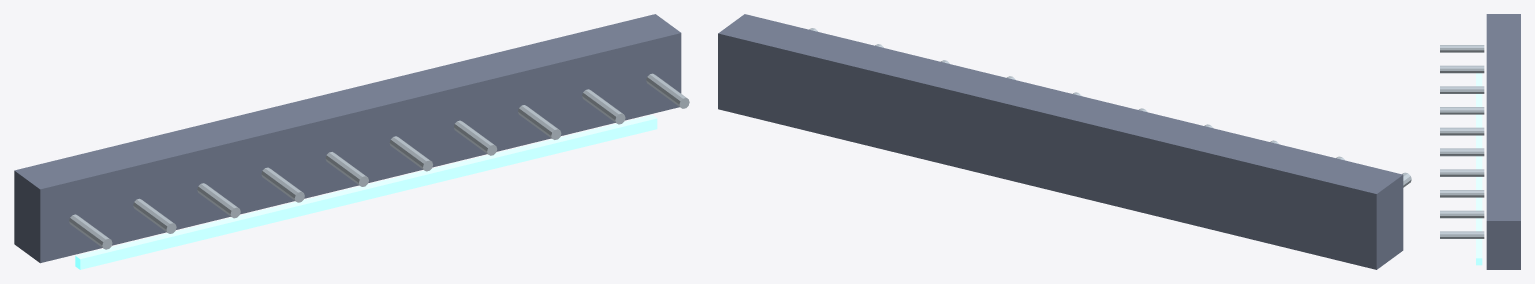
File: 03_Cloudway_Sky_Bridge.glb
3 renders of one model, left to right at view 1: azimuth 30°, elevation 25°; view 2: azimuth 150°, elevation 25°; view 3: azimuth 270°, elevation 25°, orthographic. The views are drawn at different scales.
Parts seen in each view (by area): view 1: 03_Cloudway_Sky_Bridge_00, 03_Cloudway_Sky_Bridge_01, 03_Cloudway_Sky_Bridge_02, 03_Cloudway_Sky_Bridge_05, 03_Cloudway_Sky_Bridge_07, 03_Cloudway_Sky_Bridge_10, 03_Cloudway_Sky_Bridge_03, 03_Cloudway_Sky_Bridge_04, 03_Cloudway_Sky_Bridge_06, 03_Cloudway_Sky_Bridge_08, 03_Cloudway_Sky_Bridge_09, 03_Cloudway_Sky_Bridge_11; view 2: 03_Cloudway_Sky_Bridge_00; view 3: 03_Cloudway_Sky_Bridge_00, 03_Cloudway_Sky_Bridge_01, 03_Cloudway_Sky_Bridge_06, 03_Cloudway_Sky_Bridge_07, 03_Cloudway_Sky_Bridge_03, 03_Cloudway_Sky_Bridge_10, 03_Cloudway_Sky_Bridge_02, 03_Cloudway_Sky_Bridge_04, 03_Cloudway_Sky_Bridge_05, 03_Cloudway_Sky_Bridge_08, 03_Cloudway_Sky_Bridge_09, 03_Cloudway_Sky_Bridge_11.
Boxes of the visible parts, <box> form: 03_Cloudway_Sky_Bridge_00: <box>14,14,681,263</box>; 03_Cloudway_Sky_Bridge_01: <box>75,115,657,269</box>; 03_Cloudway_Sky_Bridge_02: <box>69,214,112,249</box>; 03_Cloudway_Sky_Bridge_05: <box>261,167,304,202</box>; 03_Cloudway_Sky_Bridge_07: <box>389,136,432,171</box>; 03_Cloudway_Sky_Bridge_10: <box>582,89,625,124</box>; 03_Cloudway_Sky_Bridge_03: <box>133,198,176,233</box>; 03_Cloudway_Sky_Bridge_04: <box>197,183,240,218</box>; 03_Cloudway_Sky_Bridge_06: <box>325,152,368,186</box>; 03_Cloudway_Sky_Bridge_08: <box>454,120,497,155</box>; 03_Cloudway_Sky_Bridge_09: <box>518,105,561,139</box>; 03_Cloudway_Sky_Bridge_11: <box>646,73,689,108</box>; 03_Cloudway_Sky_Bridge_00: <box>718,14,1403,269</box>; 03_Cloudway_Sky_Bridge_00: <box>1486,14,1520,269</box>; 03_Cloudway_Sky_Bridge_01: <box>1476,73,1482,265</box>; 03_Cloudway_Sky_Bridge_06: <box>1440,127,1484,135</box>; 03_Cloudway_Sky_Bridge_07: <box>1440,148,1484,156</box>; 03_Cloudway_Sky_Bridge_03: <box>1440,65,1484,73</box>; 03_Cloudway_Sky_Bridge_10: <box>1440,210,1484,218</box>; 03_Cloudway_Sky_Bridge_02: <box>1440,45,1484,52</box>; 03_Cloudway_Sky_Bridge_04: <box>1440,86,1484,93</box>; 03_Cloudway_Sky_Bridge_05: <box>1440,107,1484,114</box>; 03_Cloudway_Sky_Bridge_08: <box>1440,169,1484,176</box>; 03_Cloudway_Sky_Bridge_09: <box>1440,190,1484,197</box>; 03_Cloudway_Sky_Bridge_11: <box>1440,231,1484,238</box>.
Size of the model in its own units: 10 by 1.23 by 1.65.
